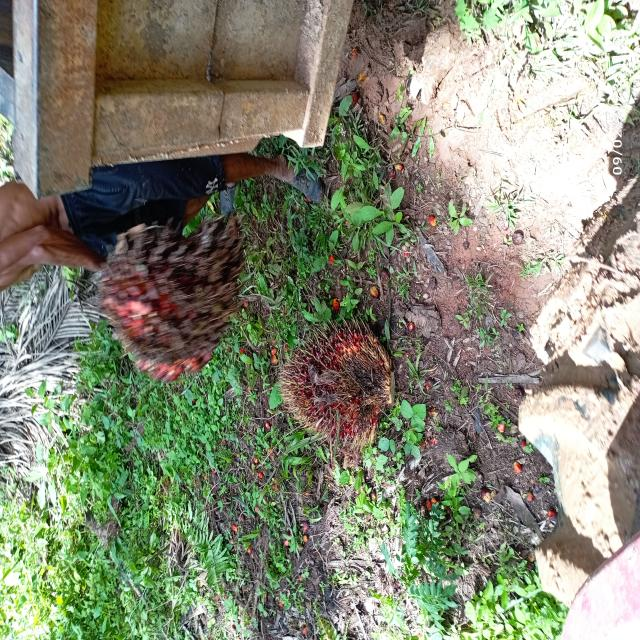fraksi 1: (254, 287, 423, 477)
